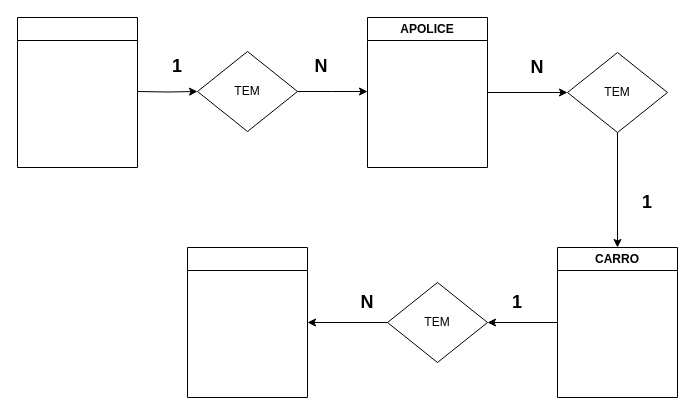
Some shapes in this 695 by 415 pixel diagram are drawn without their labels. Each missing label, with the box of its shape:
ACIDENTE: (186, 246, 308, 398)
CLIENTE: (16, 16, 138, 168)
